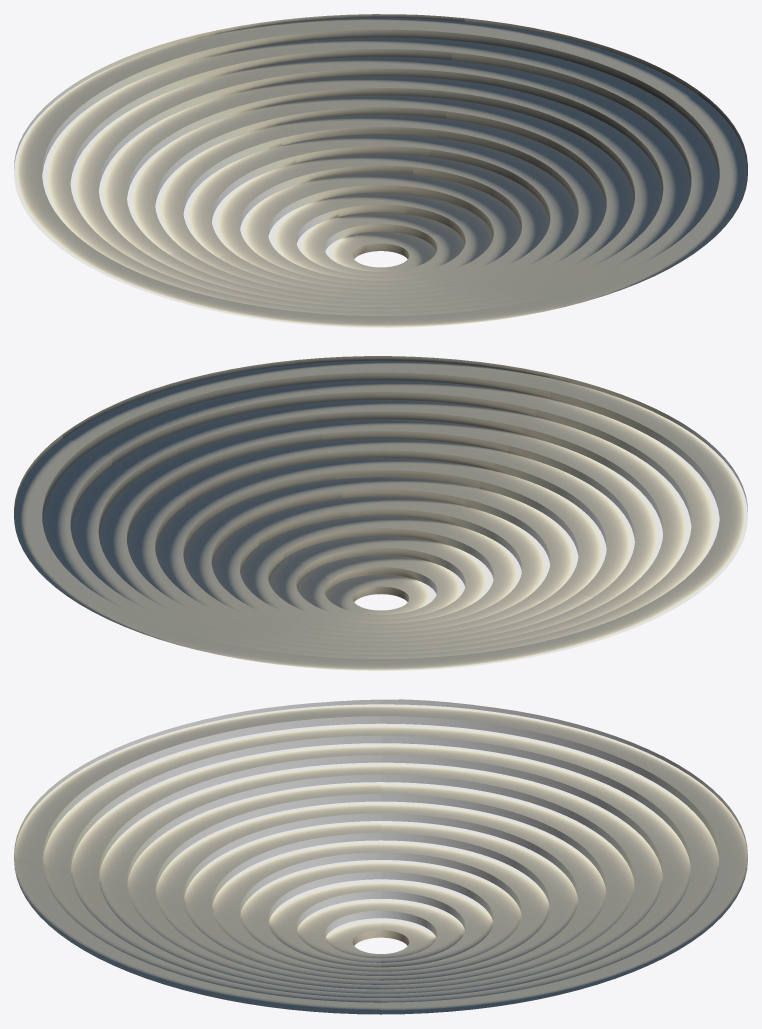
The model's file is theater.glb.
The picture shows the model from 3 angles, top to bottom: view 1: azimuth 30°, elevation 25°; view 2: azimuth 150°, elevation 25°; view 3: azimuth 270°, elevation 25°; orthographic projection.
Visible parts, largest first — view 1: theater_out; view 2: theater_out; view 3: theater_out.
Part boxes in pixels (x1=…): theater_out: x1=14, y1=14, x2=747, y2=327; theater_out: x1=14, y1=356, x2=747, y2=670; theater_out: x1=14, y1=699, x2=747, y2=1014.
Size of the model in its own units: 209 by 29.95 by 209.
1 material, 1 textured.
